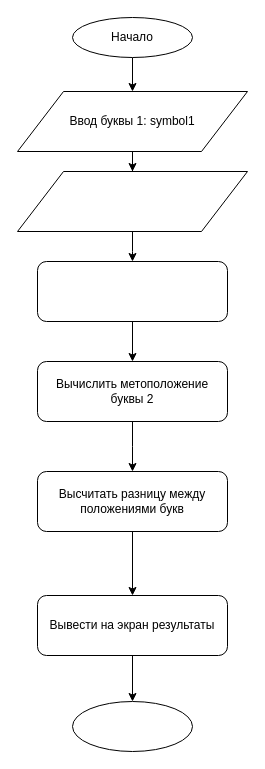
This 265x769 diagram has some shape labels left out. The shapes that lost their labels are listed below. From the top down, each one's centre as x and y in pixels, then its label:
At point (132, 201): "Ввод буквы 2: symbol2".
At point (132, 291): "Высчитать местоположение буквы 1".
At point (132, 726): "Конец".
